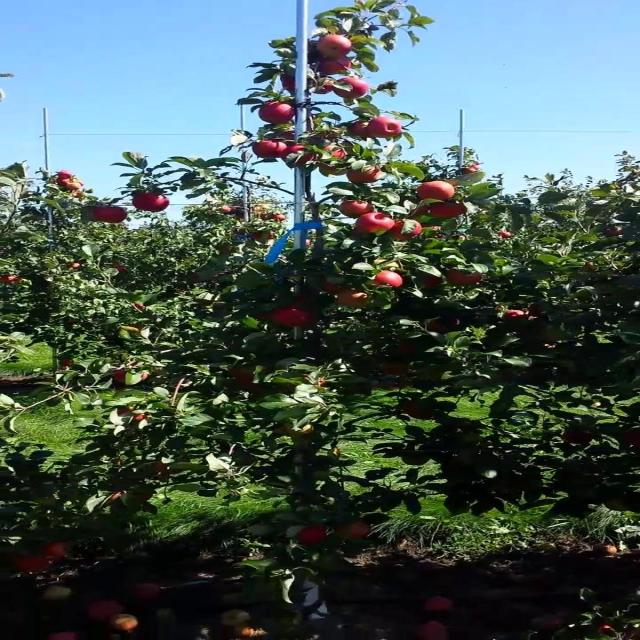apple: (348, 212, 391, 233), (333, 76, 370, 100), (369, 116, 405, 140), (355, 212, 395, 233), (276, 308, 318, 328), (333, 520, 373, 541), (390, 220, 425, 243), (134, 192, 171, 212), (262, 104, 299, 124), (319, 36, 356, 56), (319, 56, 356, 76), (284, 144, 316, 167), (298, 524, 329, 547), (13, 556, 53, 573), (42, 540, 73, 561), (426, 316, 462, 334), (340, 200, 375, 218), (419, 184, 455, 201), (113, 368, 149, 385), (255, 140, 284, 160), (348, 168, 384, 184), (92, 208, 128, 224), (433, 204, 469, 220), (447, 272, 484, 287), (234, 368, 258, 391), (340, 292, 372, 309), (404, 400, 430, 420), (156, 460, 183, 479), (348, 120, 373, 140), (376, 272, 405, 288), (319, 144, 348, 160), (561, 432, 596, 445), (276, 76, 304, 92), (113, 492, 149, 504), (120, 408, 149, 422), (284, 424, 315, 437), (312, 80, 336, 96), (298, 376, 327, 389), (319, 280, 347, 293), (106, 492, 133, 505), (319, 164, 347, 176), (383, 364, 411, 376), (348, 228, 375, 240), (397, 344, 420, 356), (276, 132, 299, 144), (504, 312, 532, 321), (284, 76, 299, 92), (611, 500, 629, 512), (625, 432, 639, 447), (412, 208, 432, 218), (255, 312, 276, 321), (426, 276, 441, 288), (298, 296, 311, 305)
